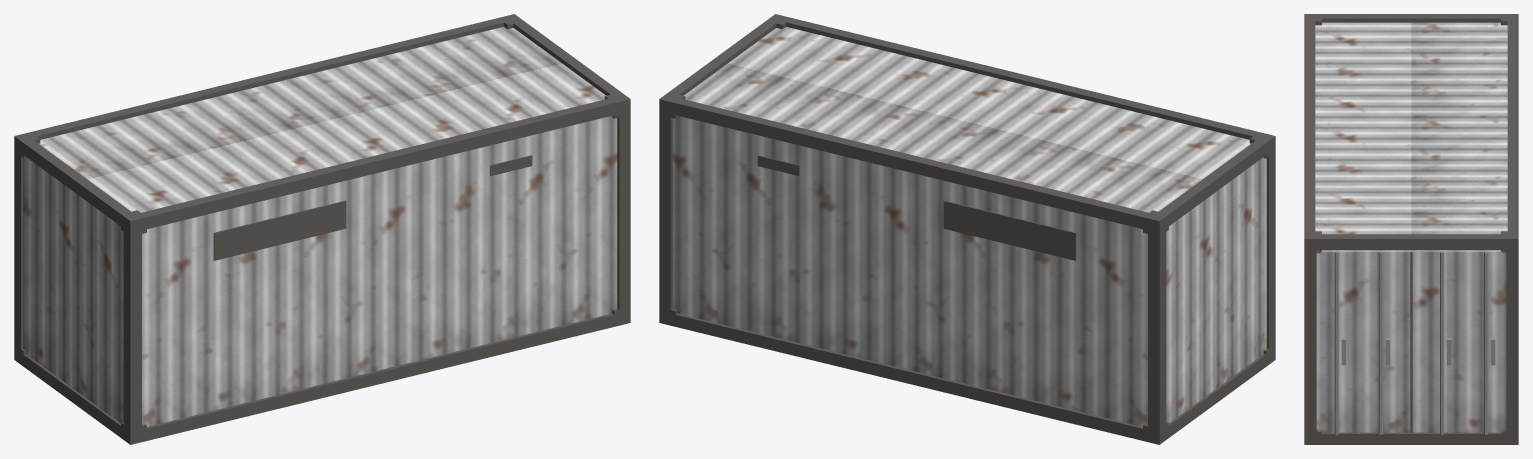
The model's file is container.glb.
The picture shows the model from 3 angles, left to right: view 1: azimuth 30°, elevation 25°; view 2: azimuth 150°, elevation 25°; view 3: azimuth 270°, elevation 25°; orthographic projection. The views are drawn at different scales.
Visible parts, largest first — view 1: body, frame; view 2: body, frame; view 3: body, frame, bars.
Boxes of the visible parts, left/top/right/bottom form: body: left=23, top=27, right=617, bottom=426; frame: left=14, top=14, right=630, bottom=444; body: left=672, top=27, right=1266, bottom=426; frame: left=659, top=14, right=1275, bottom=444; body: left=1315, top=22, right=1507, bottom=432; frame: left=1304, top=14, right=1518, bottom=444; bars: left=1334, top=251, right=1495, bottom=434.
Bounding box in the file's own units: 6.14 × 2.59 × 2.44.
3 materials, 1 textured.
